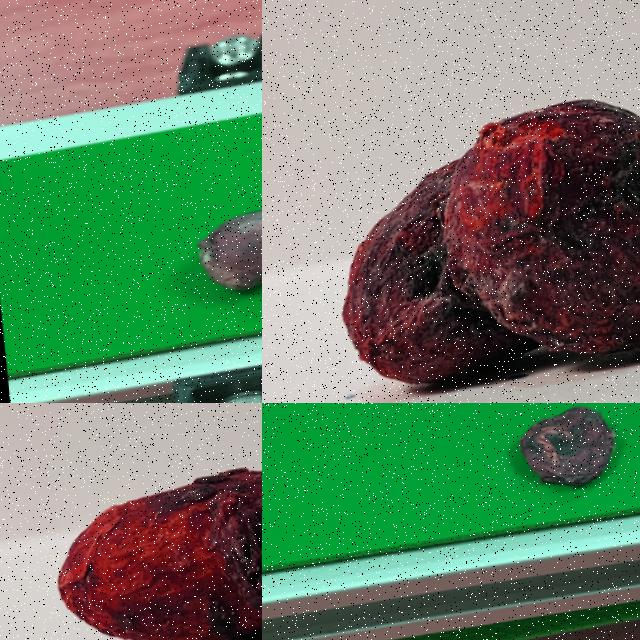Agglomerated_cocoabeans: (298, 58, 639, 402), (0, 404, 261, 639)
Fine_cocoabeans: (118, 185, 261, 339)
Flat_cocoabeans: (433, 403, 639, 545)
